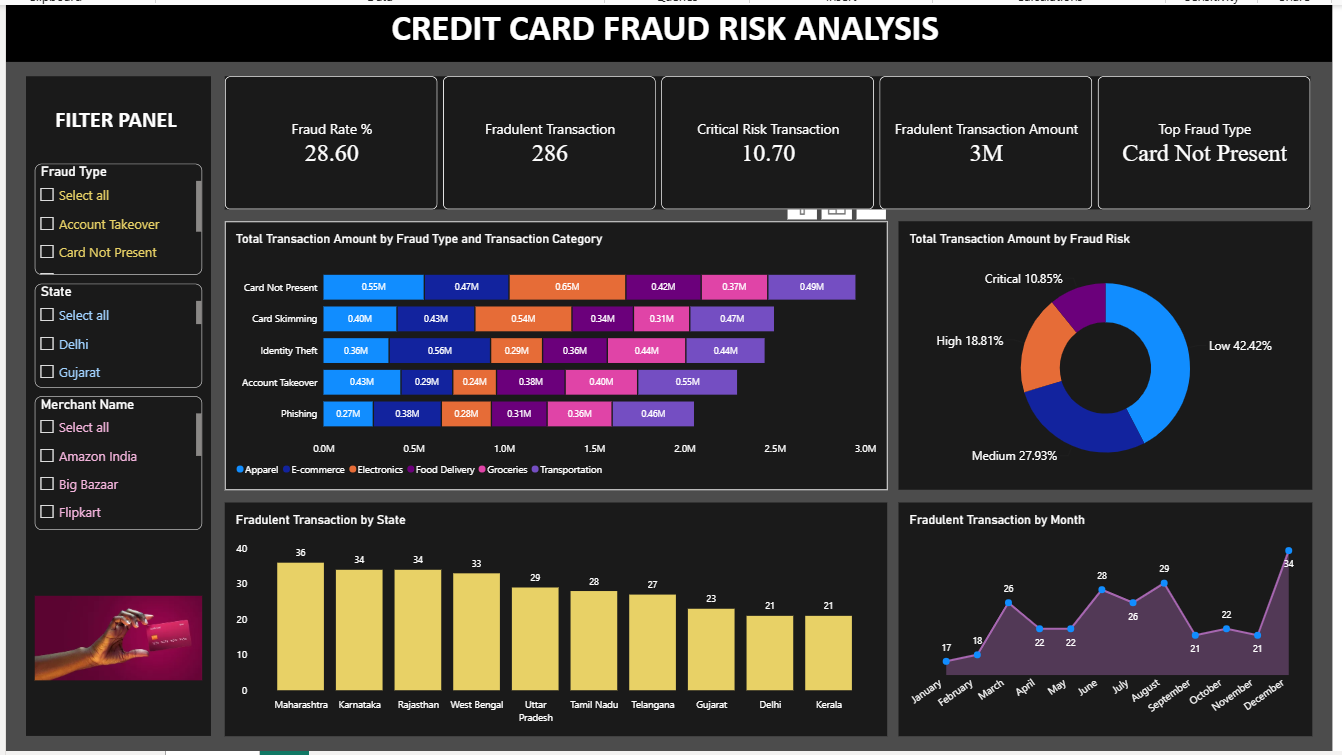

Layout of this report page (visuals, bound fields, positions):
{"tool":"powerbi","page":{"name":"Page 1","canvas":[1920,1080],"ordinal":0},"visuals":[{"type":"shape","box":[29,103.2,267.8,955.5],"z":0},{"type":"textbox","box":[41.6,146.6,242.5,50.7],"z":1000},{"type":"slicer","fields":{"Values":["Credit Card Fraud Risk Analysis.Fraud Type"]},"box":[41.6,229.9,242.5,161.1],"z":2000},{"type":"textbox","box":[0,0,1920.4,82.3],"z":3000},{"type":"barChart","fields":{"Category":["Credit Card Fraud Risk Analysis.Fraud Type"],"Series":["Credit Card Fraud Risk Analysis.Transaction Category"],"Y":["Credit Card Fraud Risk Analysis.Total Transaction Amount"]},"box":[316.7,313.1,959.3,389.1],"z":4000},{"type":"donutChart","fields":{"Category":["Credit Card Fraud Risk Analysis.Fraud Risk"],"Y":["Credit Card Fraud Risk Analysis.Total Transaction Amount"]},"box":[1292.3,313.1,599.1,389.1],"z":5000},{"type":"columnChart","fields":{"Category":["Credit Card Fraud Risk Analysis.State"],"Y":["Credit Card Fraud Risk Analysis.Fradulent Transaction"]},"box":[316.7,720.4,959.3,338.5],"z":6000},{"type":"lineChart","fields":{"Category":["Credit Card Fraud Risk Analysis.Transaction Date.Variation.Date Hierarchy.Month"],"Y":["Credit Card Fraud Risk Analysis.Fradulent Transaction"]},"box":[1292.3,720.4,599.1,338.5],"z":7000},{"type":"slicer","fields":{"Values":["Credit Card Fraud Risk Analysis.State"]},"box":[41.6,403.6,242.5,150.2],"z":8000},{"type":"slicer","fields":{"Values":["Credit Card Fraud Risk Analysis.Merchant Name"]},"box":[41.6,566.5,242.5,193.7],"z":9000},{"type":"image","box":[41.6,774.7,242.5,284.2],"z":10000},{"type":"cardVisual","fields":{"Data":["Credit Card Fraud Risk Analysis.Fraud Rate %","Credit Card Fraud Risk Analysis.Fradulent Transaction","Credit Card Fraud Risk Analysis.Critical Risk Transaction","Credit Card Fraud Risk Analysis.Fradulent Transaction Amount","Credit Card Fraud Risk Analysis.Top Fraud Type"]},"box":[316.7,103.2,1574.7,193.7],"z":11000}]}

Visuals, with their boxes in screenshot pixels (x1, y1, x2, y2):
shape: [0,74,188,754]
textbox: [5,105,179,141]
slicer - Credit Card Fraud Risk Analysis.Fraud Type: [5,164,179,279]
textbox: [0,0,1341,59]
barChart - Credit Card Fraud Risk Analysis.Fraud Type x Credit Card Fraud Risk Analysis.Transaction Category: [202,224,887,502]
donutChart - Credit Card Fraud Risk Analysis.Fraud Risk x Credit Card Fraud Risk Analysis.Total Transaction Amount: [899,224,1327,502]
columnChart - Credit Card Fraud Risk Analysis.State x Credit Card Fraud Risk Analysis.Fradulent Transaction: [202,515,887,754]
lineChart - Credit Card Fraud Risk Analysis.Transaction Date.Variation.Date Hierarchy.Month x Credit Card Fraud Risk Analysis.Fradulent Transaction: [899,515,1327,754]
slicer - Credit Card Fraud Risk Analysis.State: [5,288,179,396]
slicer - Credit Card Fraud Risk Analysis.Merchant Name: [5,405,179,543]
image: [5,554,179,754]
cardVisual - Credit Card Fraud Risk Analysis.Fraud Rate % x Credit Card Fraud Risk Analysis.Fradulent Transaction: [202,74,1327,212]
